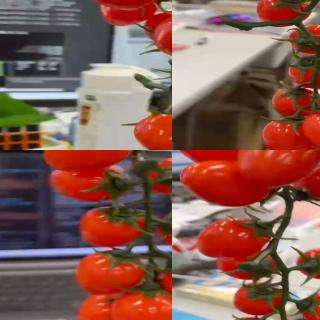tomato: (180, 161, 271, 210), (44, 167, 132, 206), (198, 219, 274, 261), (235, 150, 320, 187), (75, 252, 146, 296), (79, 205, 146, 246), (218, 248, 279, 280), (46, 150, 138, 171), (112, 291, 172, 320), (260, 118, 313, 150), (97, 0, 157, 28), (232, 285, 282, 317), (271, 87, 316, 121), (131, 158, 172, 195), (133, 113, 172, 150), (76, 293, 129, 320), (257, 0, 312, 26), (174, 150, 256, 165), (288, 57, 320, 90), (289, 24, 320, 56), (151, 13, 172, 59), (296, 164, 320, 202), (295, 246, 320, 279), (300, 110, 320, 150), (154, 209, 172, 249), (297, 291, 320, 320)
